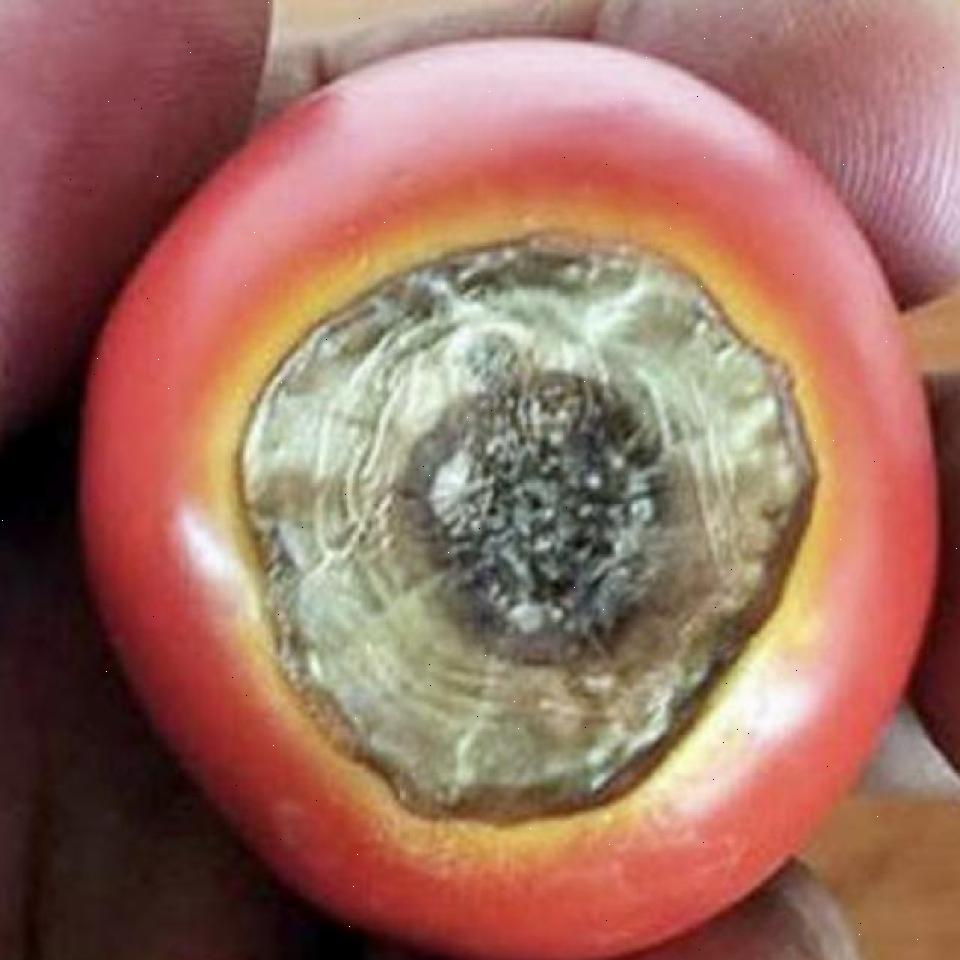Blossom_end_rot: (228, 212, 820, 830)
